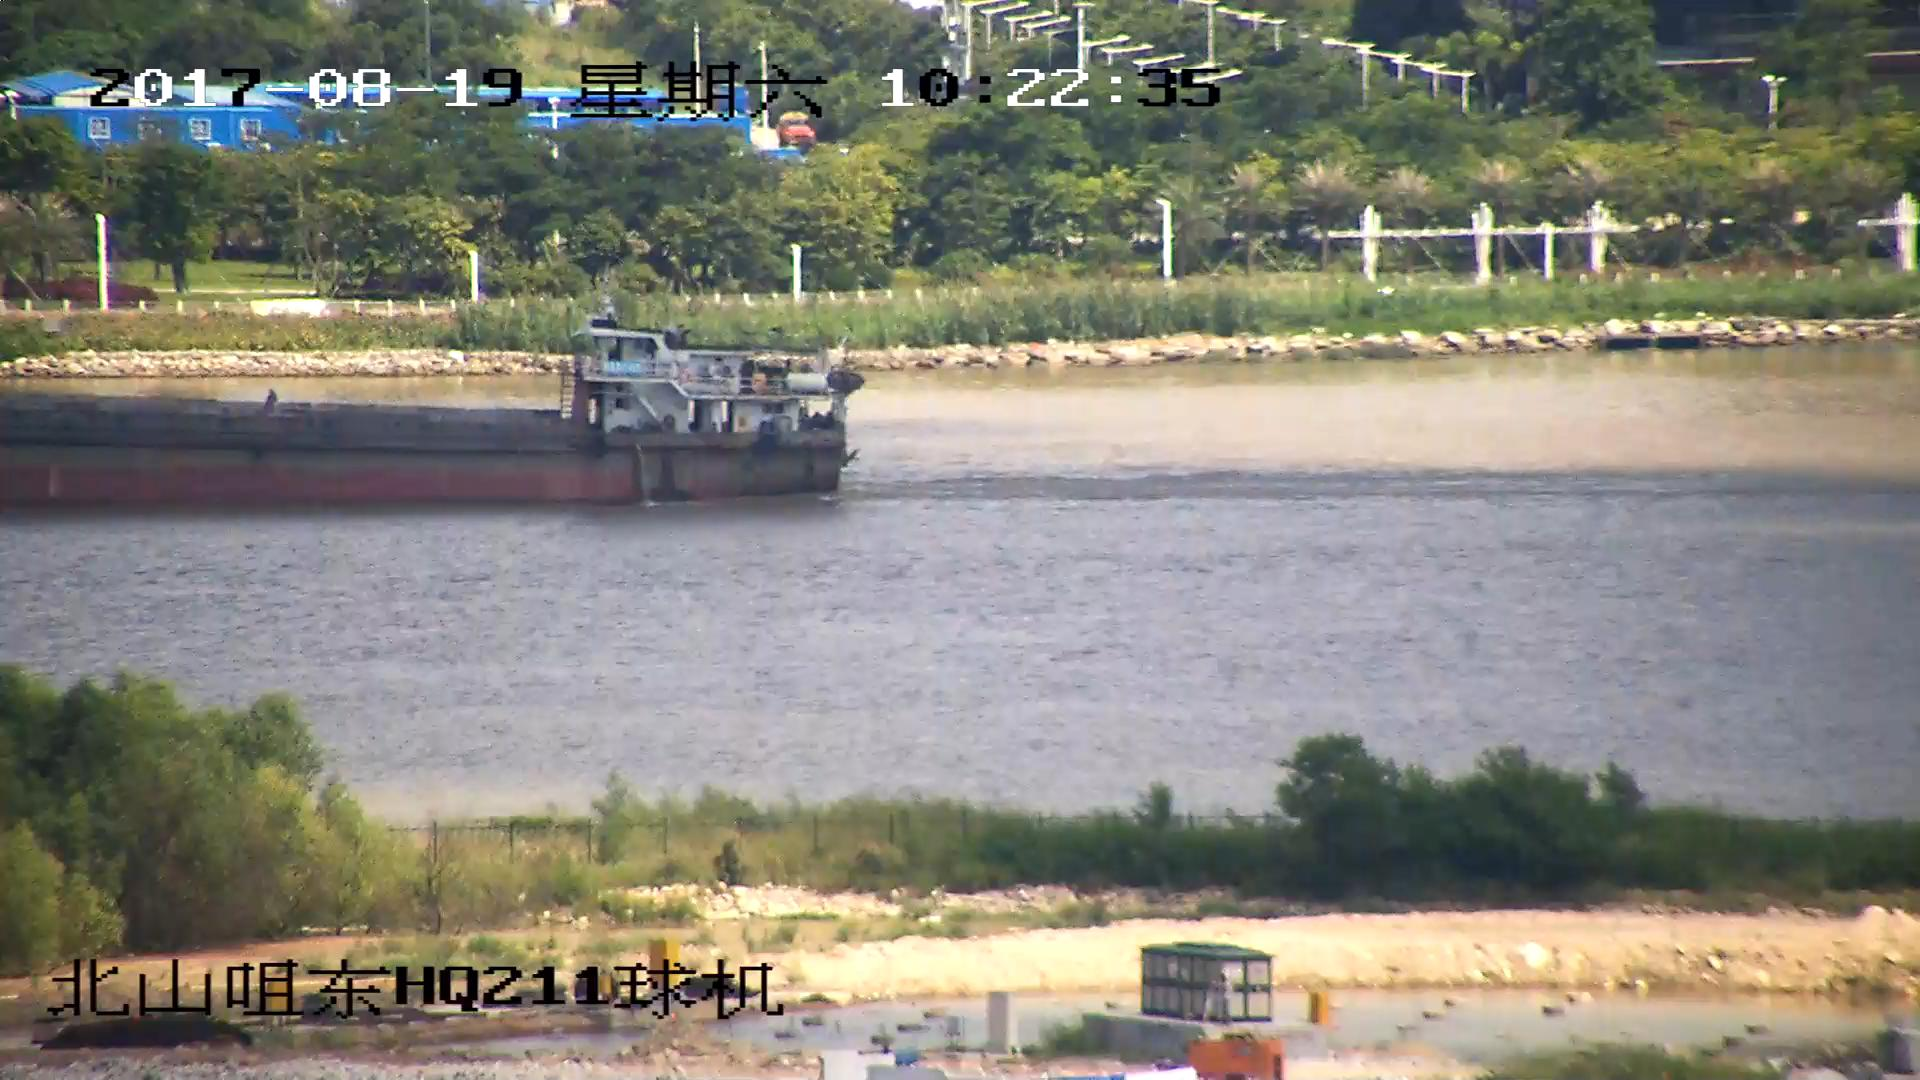bulk cargo carrier: (1, 300, 851, 503)
